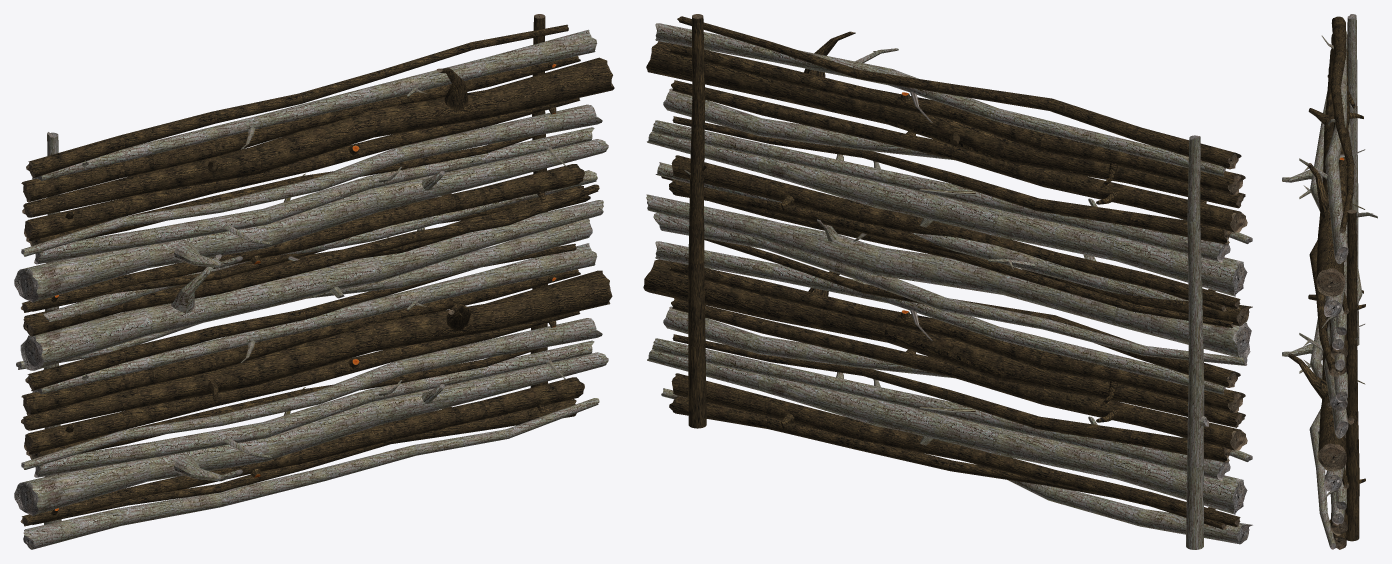
File: branch_wall.fbx
3 views of the same model, side by side, from view 1: azimuth 30°, elevation 25°; view 2: azimuth 150°, elevation 25°; view 3: azimuth 270°, elevation 25° (orthographic). The views are drawn at different scales.
Visible parts, largest first — view 1: branch_wall; view 2: branch_wall; view 3: branch_wall.
Part boxes in pixels (x1,y1,x2,y2): branch_wall: (14, 14, 614, 549); branch_wall: (643, 14, 1252, 549); branch_wall: (1282, 14, 1377, 549).
Bounding box in the file's own units: 366 × 240 × 63.33.
2 materials, 2 textured.
